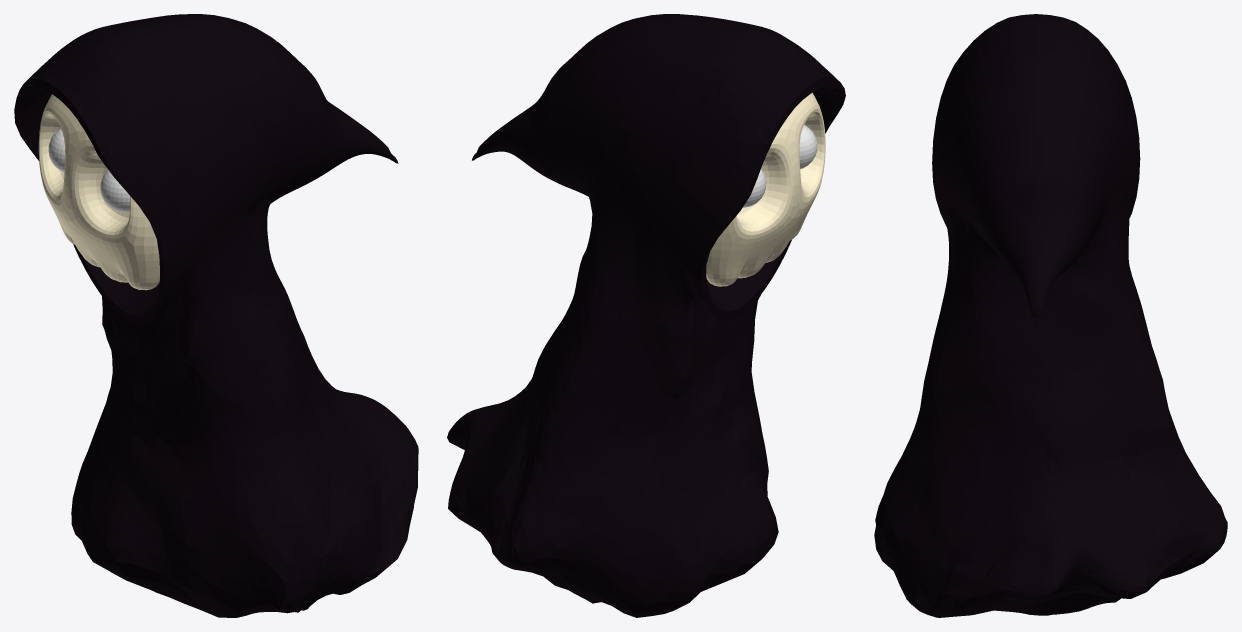
The model's file is ReaperTV1.fbx.
3 views of the same model, side by side, from view 1: azimuth 30°, elevation 25°; view 2: azimuth 150°, elevation 25°; view 3: azimuth 270°, elevation 25° (orthographic). The views are drawn at different scales.
Parts seen in each view (by area): view 1: Cape, Skull, Eye Right; view 2: Cape, Skull, Eye Right; view 3: Cape.
Boxes of the visible parts, x1,y1,x2,y2 form: Cape: [14, 14, 418, 617]; Skull: [38, 94, 159, 290]; Eye Right: [100, 170, 130, 211]; Cape: [447, 14, 845, 617]; Skull: [706, 93, 825, 286]; Eye Right: [799, 125, 817, 168]; Cape: [874, 14, 1227, 617].
Size of the model in its own units: 343 by 520 by 312.
